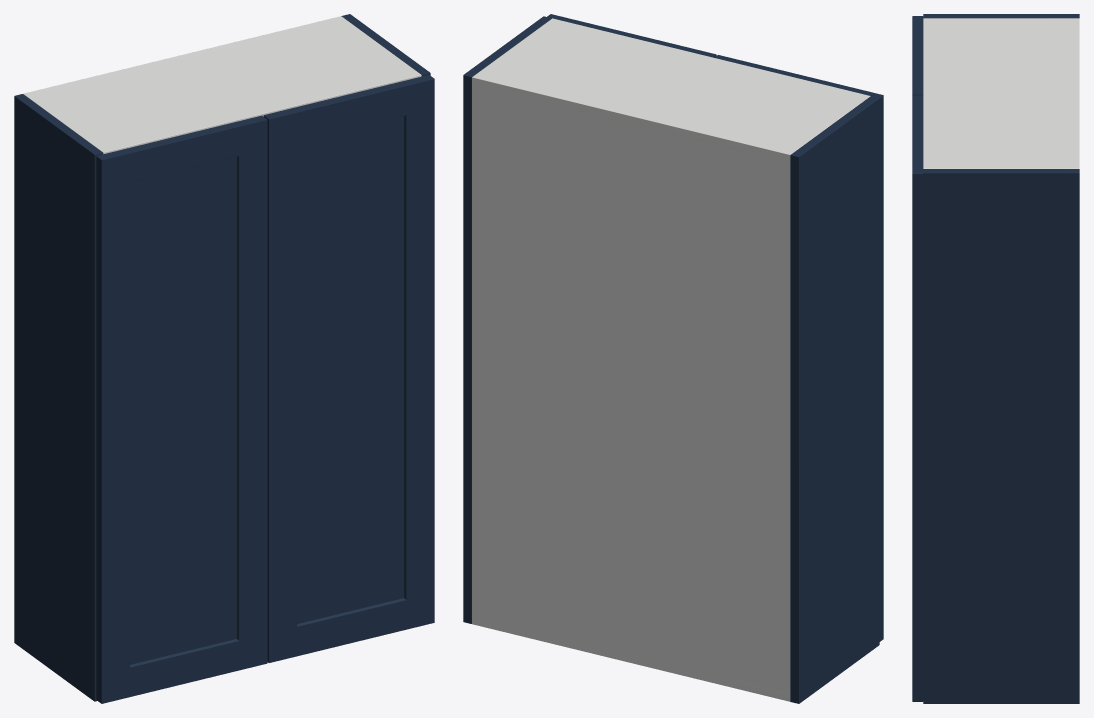
Rendered from oppein-pb-bss-w2742.glb.
3 views of the same model, side by side, from view 1: azimuth 30°, elevation 25°; view 2: azimuth 150°, elevation 25°; view 3: azimuth 270°, elevation 25° (orthographic). The views are drawn at different scales.
Parts seen in each view (by area): view 1: Door, Door.001, Cabinet side, Cabinet top, Cabinet side.001; view 2: Cabinet back, Cabinet side, Cabinet top, Cabinet side.001, Door, Door.001, Cabinet bottom; view 3: Cabinet side.001, Cabinet top, Door.001, Door, Cabinet side.
Part boxes in pixels (x1,y1,x2,y2): Door: (96,115,267,703); Door.001: (263,75,434,662); Cabinet side: (14,94,103,701); Cabinet top: (23,16,421,154); Cabinet side.001: (341,14,430,76); Cabinet back: (472,77,790,701); Cabinet side: (790,96,879,703); Cabinet top: (472,18,870,163); Cabinet side.001: (463,16,551,623); Door: (714,55,883,641); Door.001: (547,14,716,57); Cabinet bottom: (668,664,790,701); Cabinet side.001: (923,169,1079,703); Cabinet top: (923,18,1079,168); Door.001: (912,95,923,701); Door: (912,16,923,95); Cabinet side: (923,14,1079,18).
Bounding box in the file's own units: 0.6858 × 1.07 × 0.3048.
